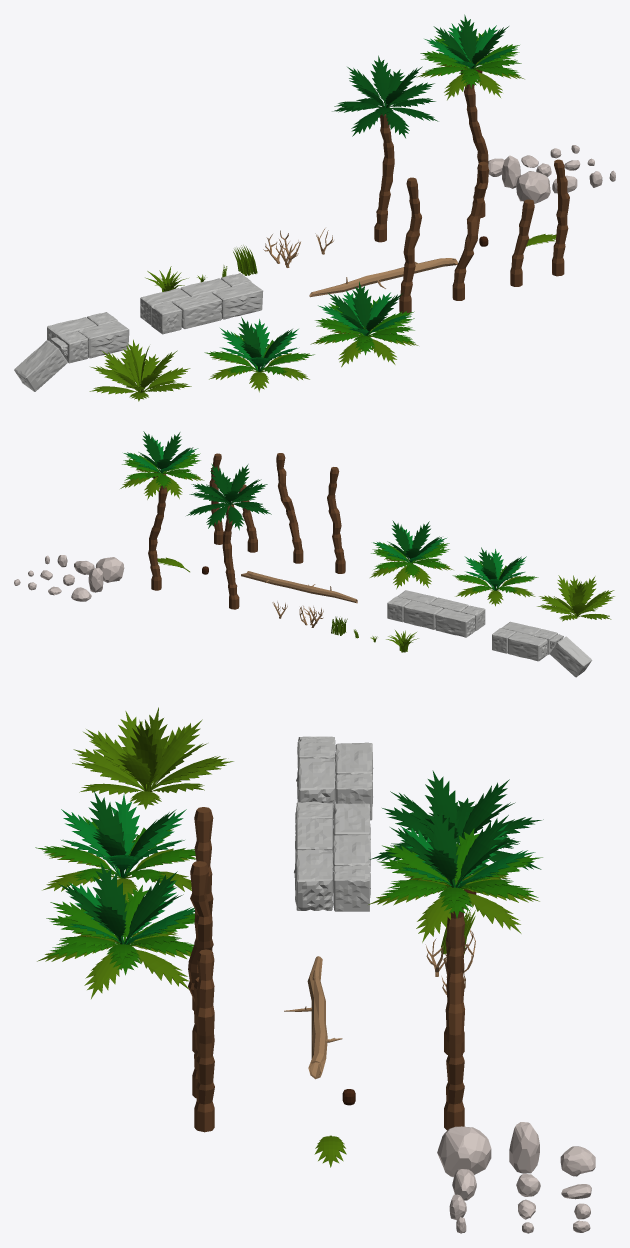
Rendered from Umgebung.fbx.
3 renders of one model, top to bottom at view 1: azimuth 30°, elevation 25°; view 2: azimuth 150°, elevation 25°; view 3: azimuth 270°, elevation 25°, orthographic. The views are drawn at different scales.
Visible parts, largest first — view 1: Ruine, Ruine 2, Palmbusch, Stamm 3, Stamm 4, Stamm Palme.001, Palmblatt Reihe 3.001, Palmblatt Reihe 5, Palmblatt Reihe 5.001, Stamm 1, Palmblatt Reihe 2.001, Baumstamm (+16 smaller); view 2: Ruine, Ruine 2, Palmbusch, Stamm 3, Stamm 4, Stamm Palme, Palmblatt Reihe 1.001, Palmblatt Reihe 3.001, Palmblatt Reihe 5.001, Stamm Palme.001, Palmblatt Reihe 5, Baumstamm (+16 smaller); view 3: Ruine, Palmbusch, Ruine 2, Stamm Palme, Stamm 1, Palmblatt Reihe 5, Palmblatt Reihe 5.001, Palmblatt Reihe3, Palmblatt Reihe 3.001, Palmblatt Reihe 3, Palmblatt Reihe 3.002, Palmblatt Reihe 1 (+15 smaller).
Part boxes in pixels (box(x1,y1,x2,y2)): Ruine: box(140, 273, 263, 334); Ruine 2: box(14, 312, 129, 391); Palmbusch: box(89, 339, 191, 401); Stamm 3: box(452, 161, 488, 300); Stamm 4: box(399, 177, 421, 313); Stamm Palme.001: box(374, 107, 394, 242); Palmblatt Reihe 3.001: box(347, 55, 422, 107); Palmblatt Reihe 5: box(433, 14, 508, 68); Palmblatt Reihe 5.001: box(328, 281, 402, 335); Stamm 1: box(552, 159, 569, 276); Palmblatt Reihe 2.001: box(334, 69, 435, 116); Baumstamm: box(309, 258, 457, 297); Ruine: box(387, 590, 485, 637); Ruine 2: box(492, 621, 591, 677); Palmbusch: box(537, 575, 614, 621); Stamm 3: box(276, 453, 303, 563); Stamm 4: box(327, 467, 345, 573); Stamm Palme: box(148, 474, 167, 590); Palmblatt Reihe 1.001: box(186, 495, 271, 530); Palmblatt Reihe 3.001: box(206, 463, 261, 503); Palmblatt Reihe 5.001: box(387, 520, 441, 562); Stamm Palme.001: box(222, 503, 239, 609); Palmblatt Reihe 5: box(138, 431, 193, 472); Baumstamm: box(241, 571, 357, 603); Ruine: box(294, 802, 370, 911); Palmbusch: box(72, 707, 233, 809); Ruine 2: box(296, 736, 373, 820); Stamm Palme: box(444, 908, 464, 1130); Stamm 1: box(194, 949, 214, 1132); Palmblatt Reihe 5: box(390, 806, 514, 887); Palmblatt Reihe 5.001: box(59, 862, 183, 944); Palmblatt Reihe3: box(61, 794, 186, 878); Palmblatt Reihe 3.001: box(390, 770, 515, 845); Palmblatt Reihe 3: box(382, 828, 542, 905); Palmblatt Reihe 3.002: box(50, 885, 195, 962); Palmblatt Reihe 1: box(368, 875, 539, 942).
Bounding box in the file's own units: 3270 × 1018 × 1566.
